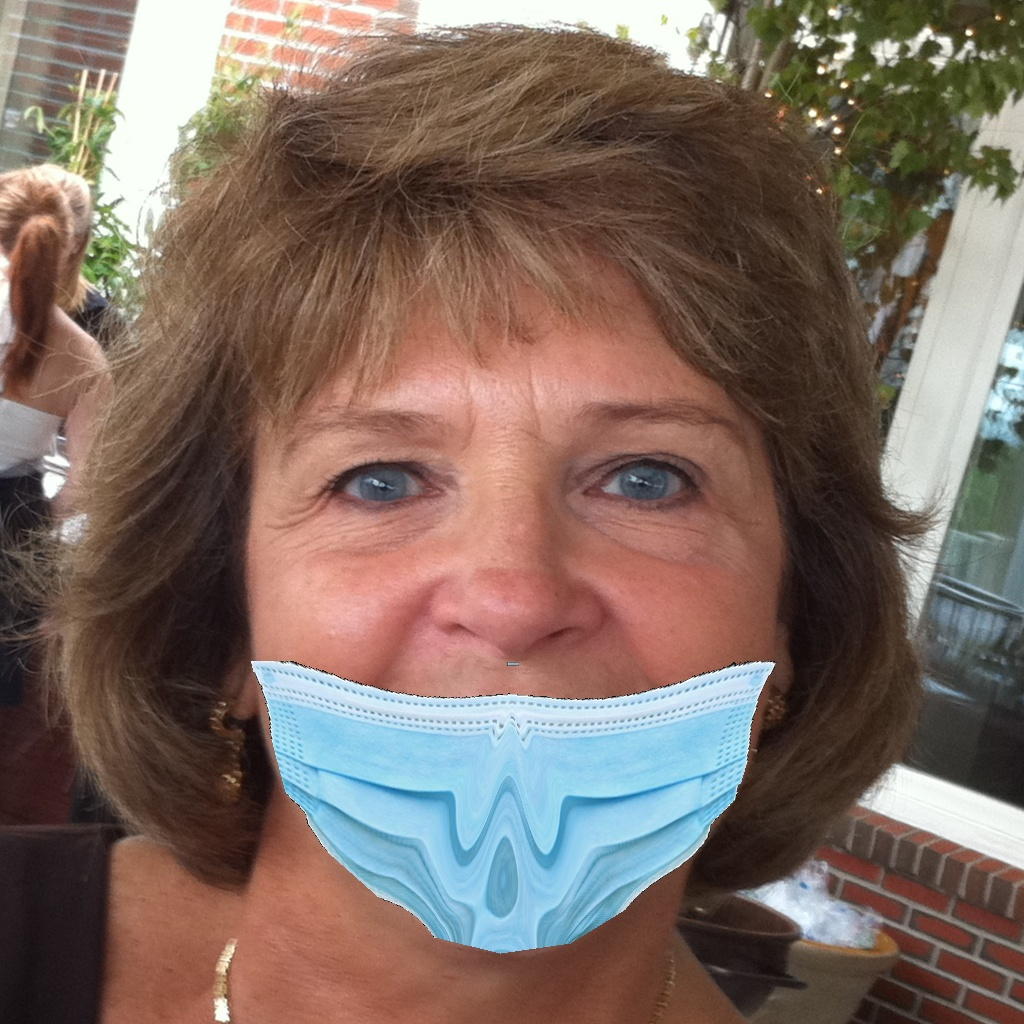mascarilla_mal_puesta: (272, 395, 792, 943)
